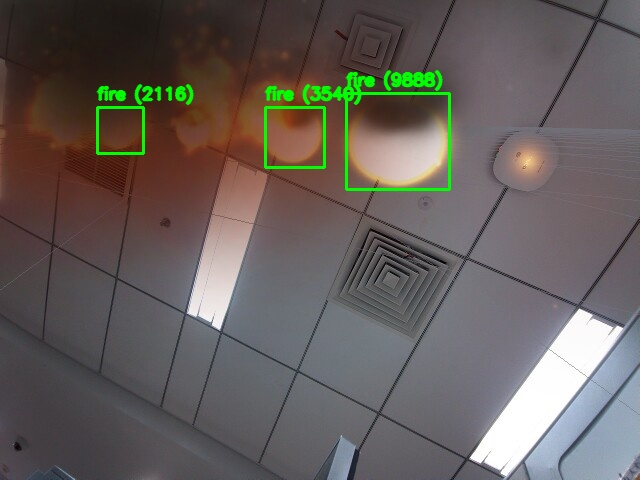fire: (346, 93, 449, 189), (265, 107, 324, 167), (97, 107, 143, 153)
